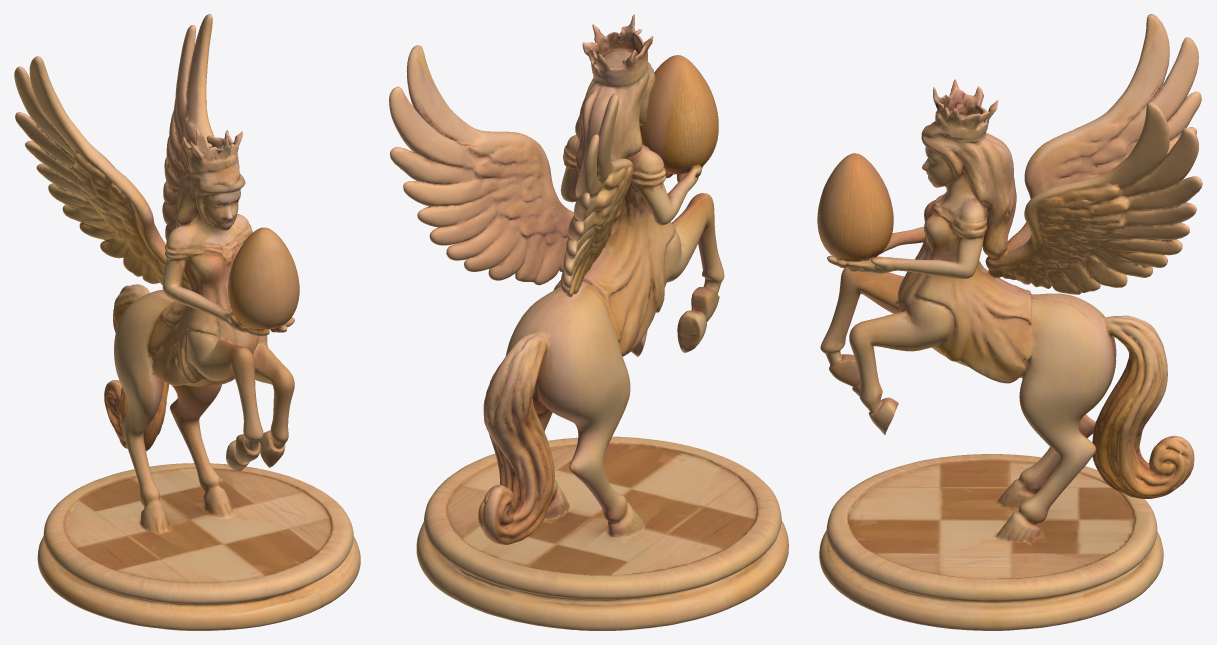
The model's file is VAULTMISTRESS.glb.
The picture shows the model from 3 angles, left to right: view 1: azimuth 30°, elevation 25°; view 2: azimuth 150°, elevation 25°; view 3: azimuth 270°, elevation 25°; orthographic projection. The views are drawn at different scales.
Size of the model in its own units: 1.23 by 2 by 1.39.
1 material, 1 textured.
